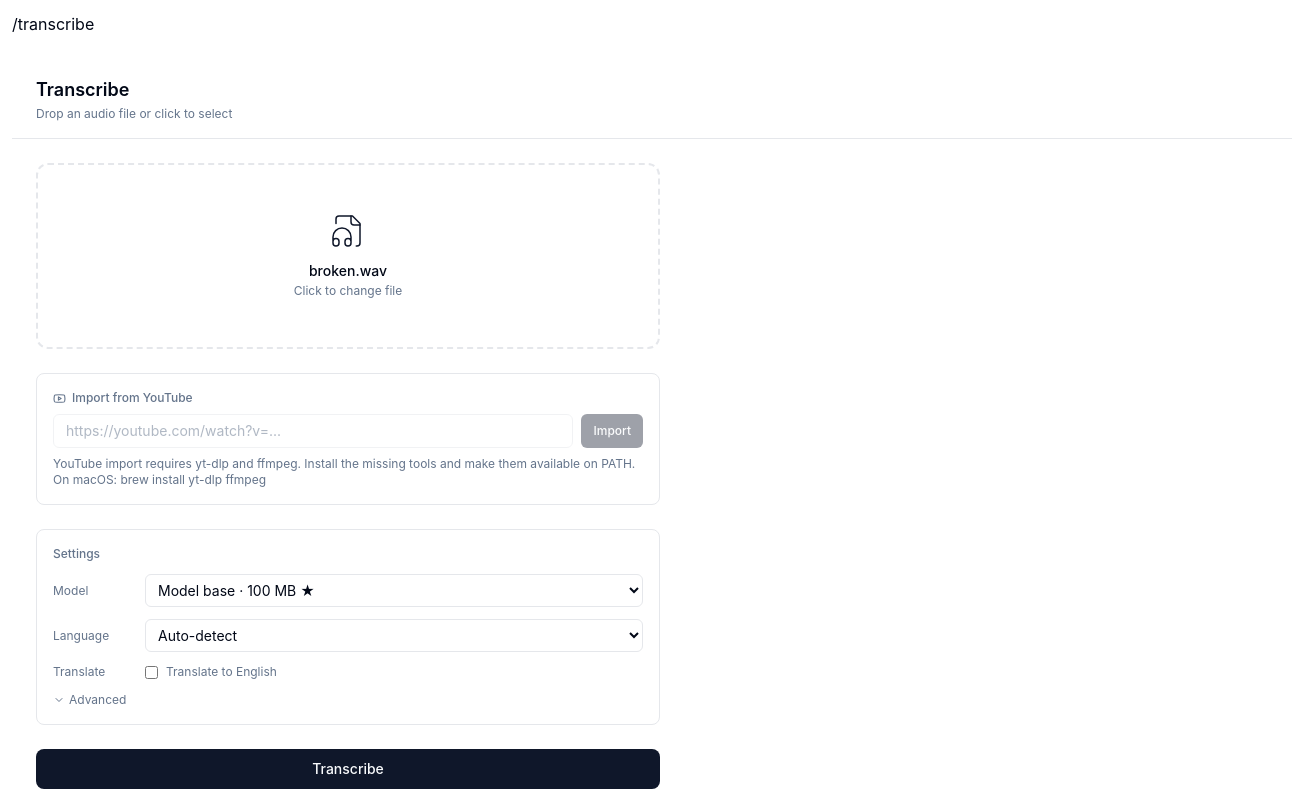
Scenario: DropZone › shows structured command errors instead of object placeholders
Click the button "Transcribe".
click(348, 769)  # box [36,749,660,789]
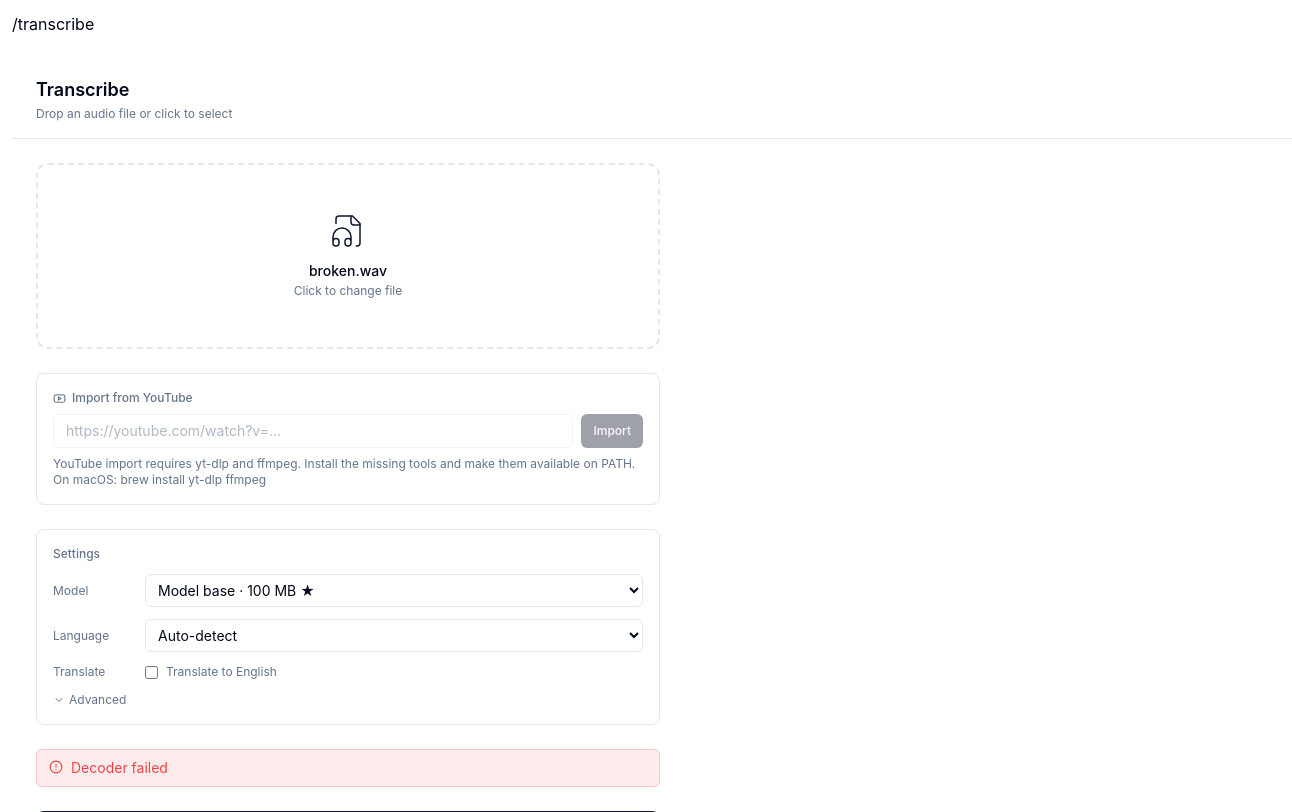
Expected: the text "Decoder failed" is shown, [71,758,168,778]
